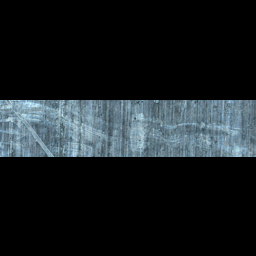d: (1, 102, 57, 156), (129, 122, 243, 148), (58, 116, 116, 156), (126, 109, 153, 150)
